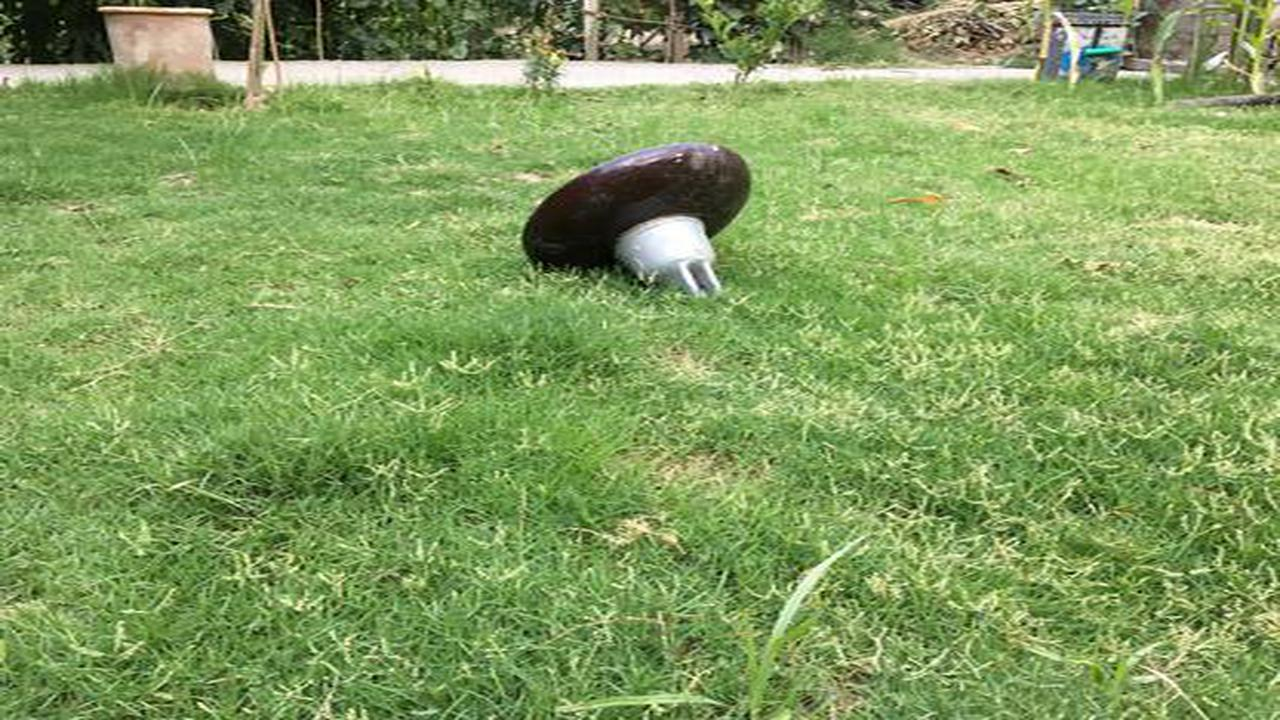insulator_disc: (518, 136, 758, 305)
